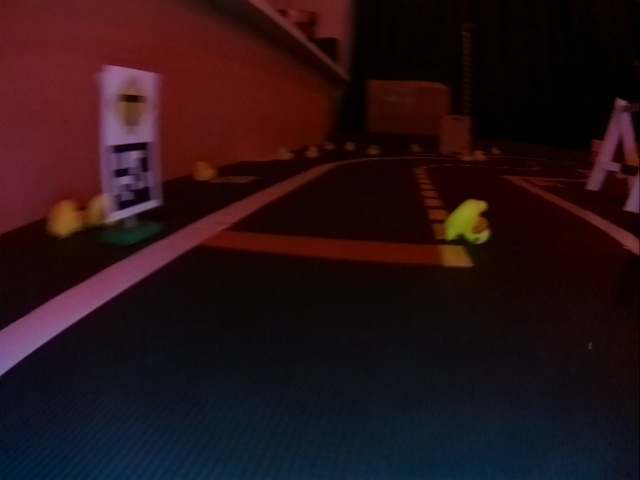Duckie: (446, 200, 491, 243), (47, 200, 81, 237), (192, 160, 214, 178), (305, 147, 318, 157)
QR code: (107, 149, 158, 212), (217, 176, 255, 184)
